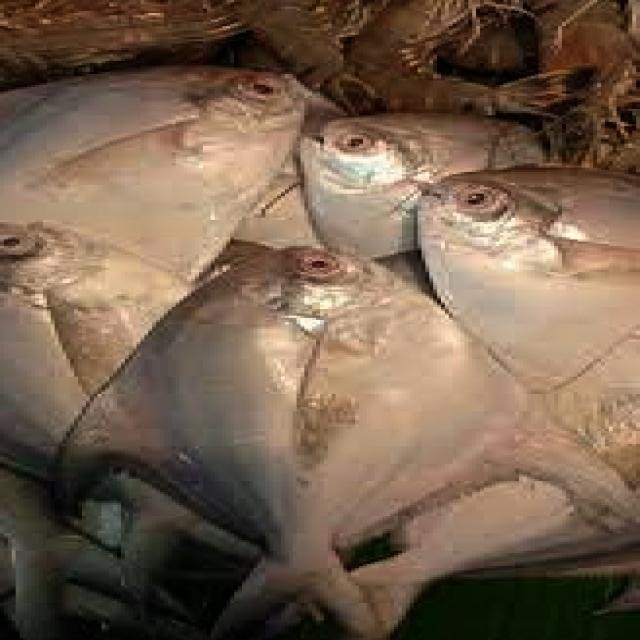pomfred: (54, 246, 628, 640)
